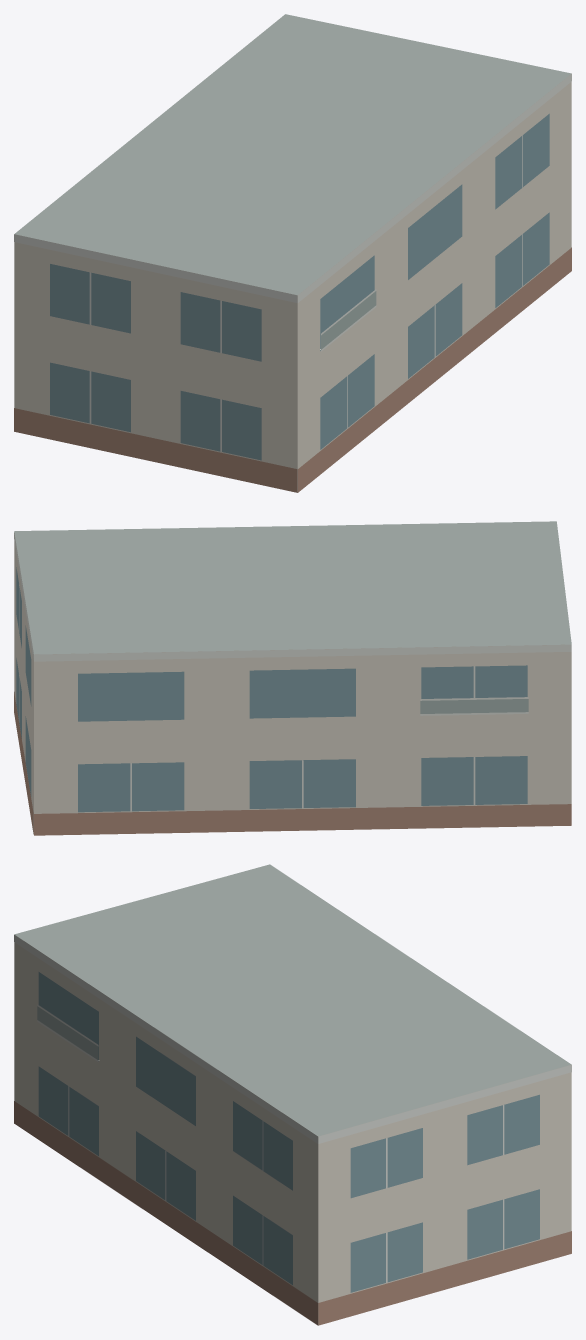
Rendered from survey-upis-32568986.glb.
3 views of the same model, one above another, from view 1: azimuth 30°, elevation 25°; view 2: azimuth 150°, elevation 25°; view 3: azimuth 270°, elevation 25° (orthographic). The views are drawn at different scales.
Visible parts, largest first — view 1: survey-upis-32568986.tmp; view 2: survey-upis-32568986.tmp; view 3: survey-upis-32568986.tmp.
Part boxes in pixels (box(x1,y1,x2,y2)): survey-upis-32568986.tmp: box(14, 14, 571, 492); survey-upis-32568986.tmp: box(14, 521, 571, 835); survey-upis-32568986.tmp: box(14, 864, 571, 1325).
Bounding box in the file's own units: 18.85 × 6.1 × 16.32.
